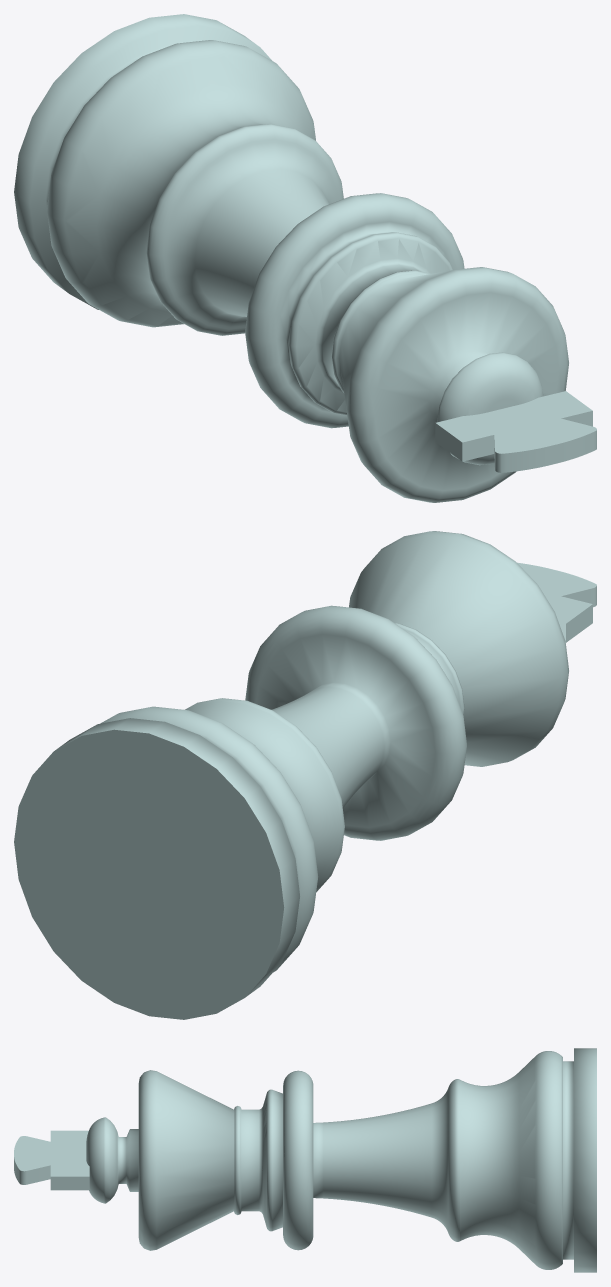
File: WhiteKing.obj
3 views of the same model, one above another, from view 1: azimuth 30°, elevation 25°; view 2: azimuth 150°, elevation 25°; view 3: azimuth 270°, elevation 25° (orthographic). The views are drawn at different scales.
Parts seen in each view (by area): view 1: Mesh1 Agrupar_2_1 Group1 Model, Mesh2 Componente_1_1 Group1 Model; view 2: Mesh2 Componente_1_1 Group1 Model, Mesh1 Agrupar_2_1 Group1 Model; view 3: Mesh1 Agrupar_2_1 Group1 Model, Mesh2 Componente_1_1 Group1 Model.
Part boxes in pixels (x1,y1,x2,y2): Mesh1 Agrupar_2_1 Group1 Model: [146, 124, 596, 502]; Mesh2 Componente_1_1 Group1 Model: [14, 14, 315, 327]; Mesh2 Componente_1_1 Group1 Model: [14, 701, 341, 1019]; Mesh1 Agrupar_2_1 Group1 Model: [185, 531, 596, 891]; Mesh1 Agrupar_2_1 Group1 Model: [14, 1070, 459, 1250]; Mesh2 Componente_1_1 Group1 Model: [460, 1048, 596, 1272].
Bounding box in the file's own units: 67.78 × 67.78 × 176.
